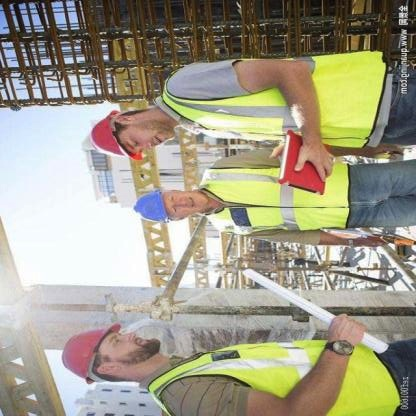blue: (130, 188, 172, 226)
red: (55, 320, 125, 385), (84, 108, 147, 164)
vest: (160, 44, 394, 151), (146, 334, 399, 416), (195, 156, 359, 236)
